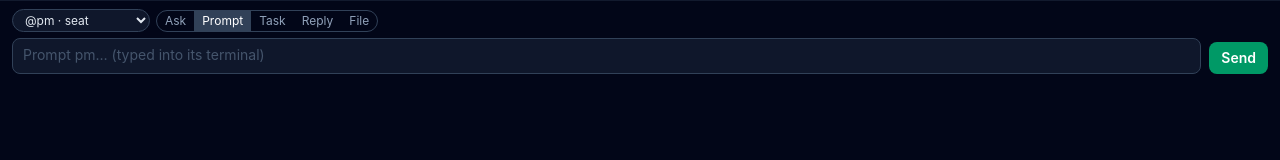
Test: Composer › @name in the text retargets the send and the chip
Type "@grok-fe what are you on?" into the text box named "Message".
click(607, 56); type("@grok-fe what are you on?")  # box [12,38,1201,74]
Then press Enter
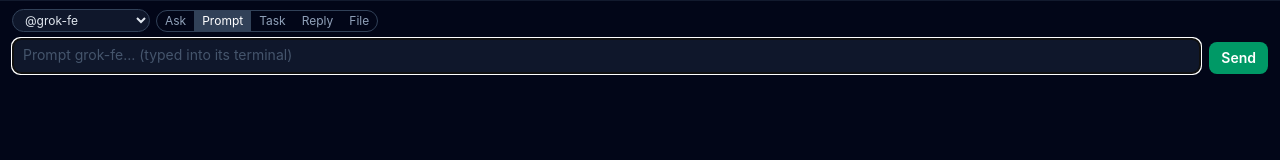
Expected: the dropdown named "Target" shows "@grok-fe", [12,9,150,32]
